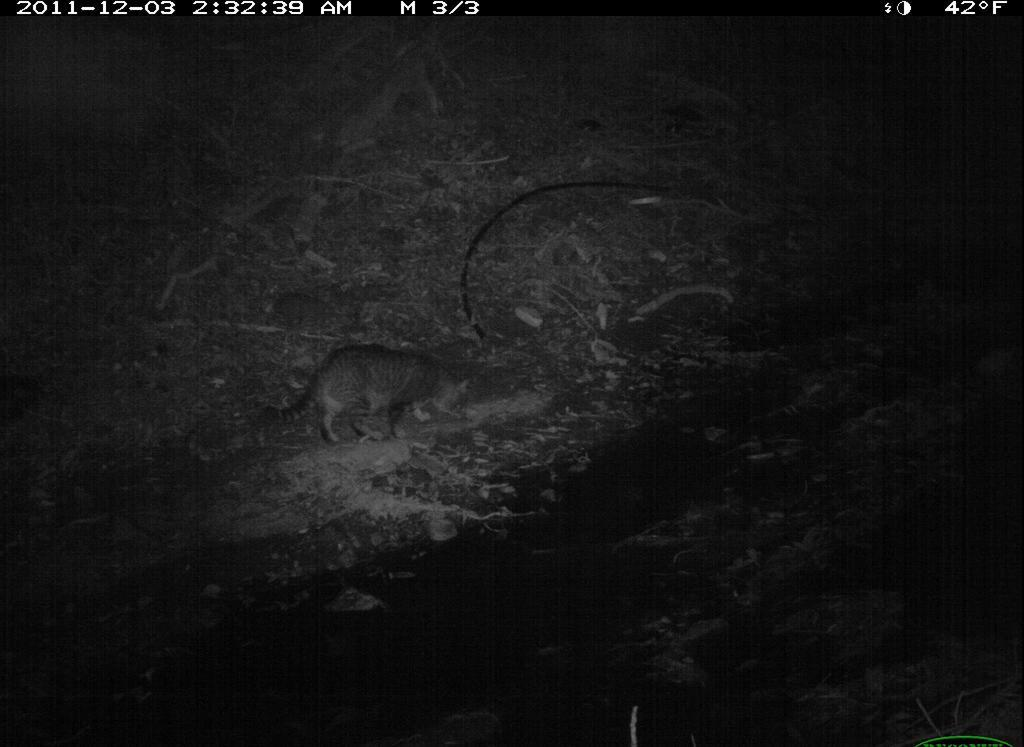cat: (259, 327, 489, 447)
